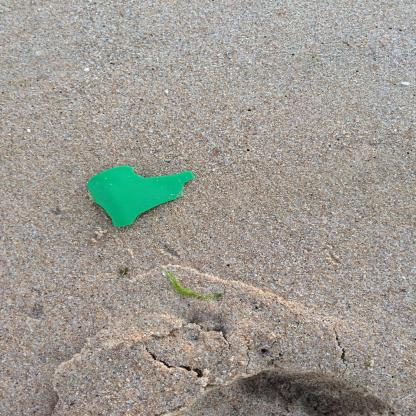trash: (84, 164, 202, 230)
